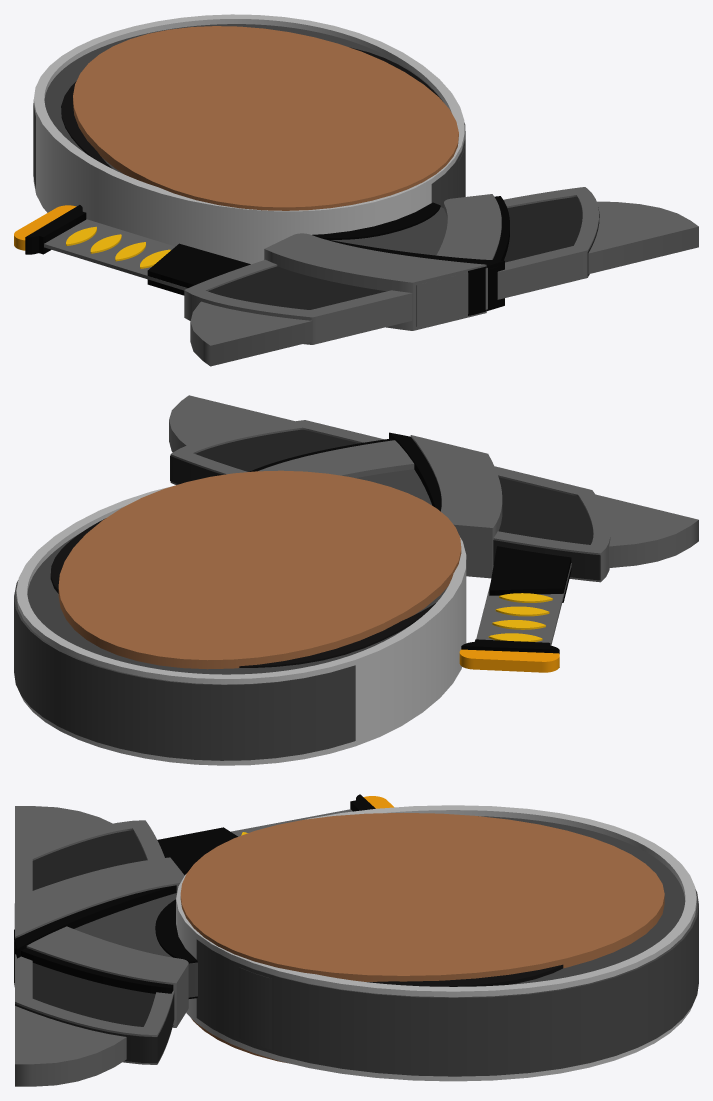
The model's file is emoji_u1f977_1f3fe.glb.
3 renders of one model, top to bottom at view 1: azimuth 30°, elevation 25°; view 2: azimuth 150°, elevation 25°; view 3: azimuth 270°, elevation 25°, orthographic. The views are drawn at different scales.
Visible parts, largest first — view 1: emoji_u1f977_1f3fe; view 2: emoji_u1f977_1f3fe; view 3: emoji_u1f977_1f3fe.
Boxes of the visible parts, x1,y1,x2,y2 form: emoji_u1f977_1f3fe: [14, 14, 698, 366]; emoji_u1f977_1f3fe: [14, 395, 698, 765]; emoji_u1f977_1f3fe: [14, 794, 698, 1086].
Bounding box in the file's own units: 0.0314 × 0.0052 × 0.0332.
